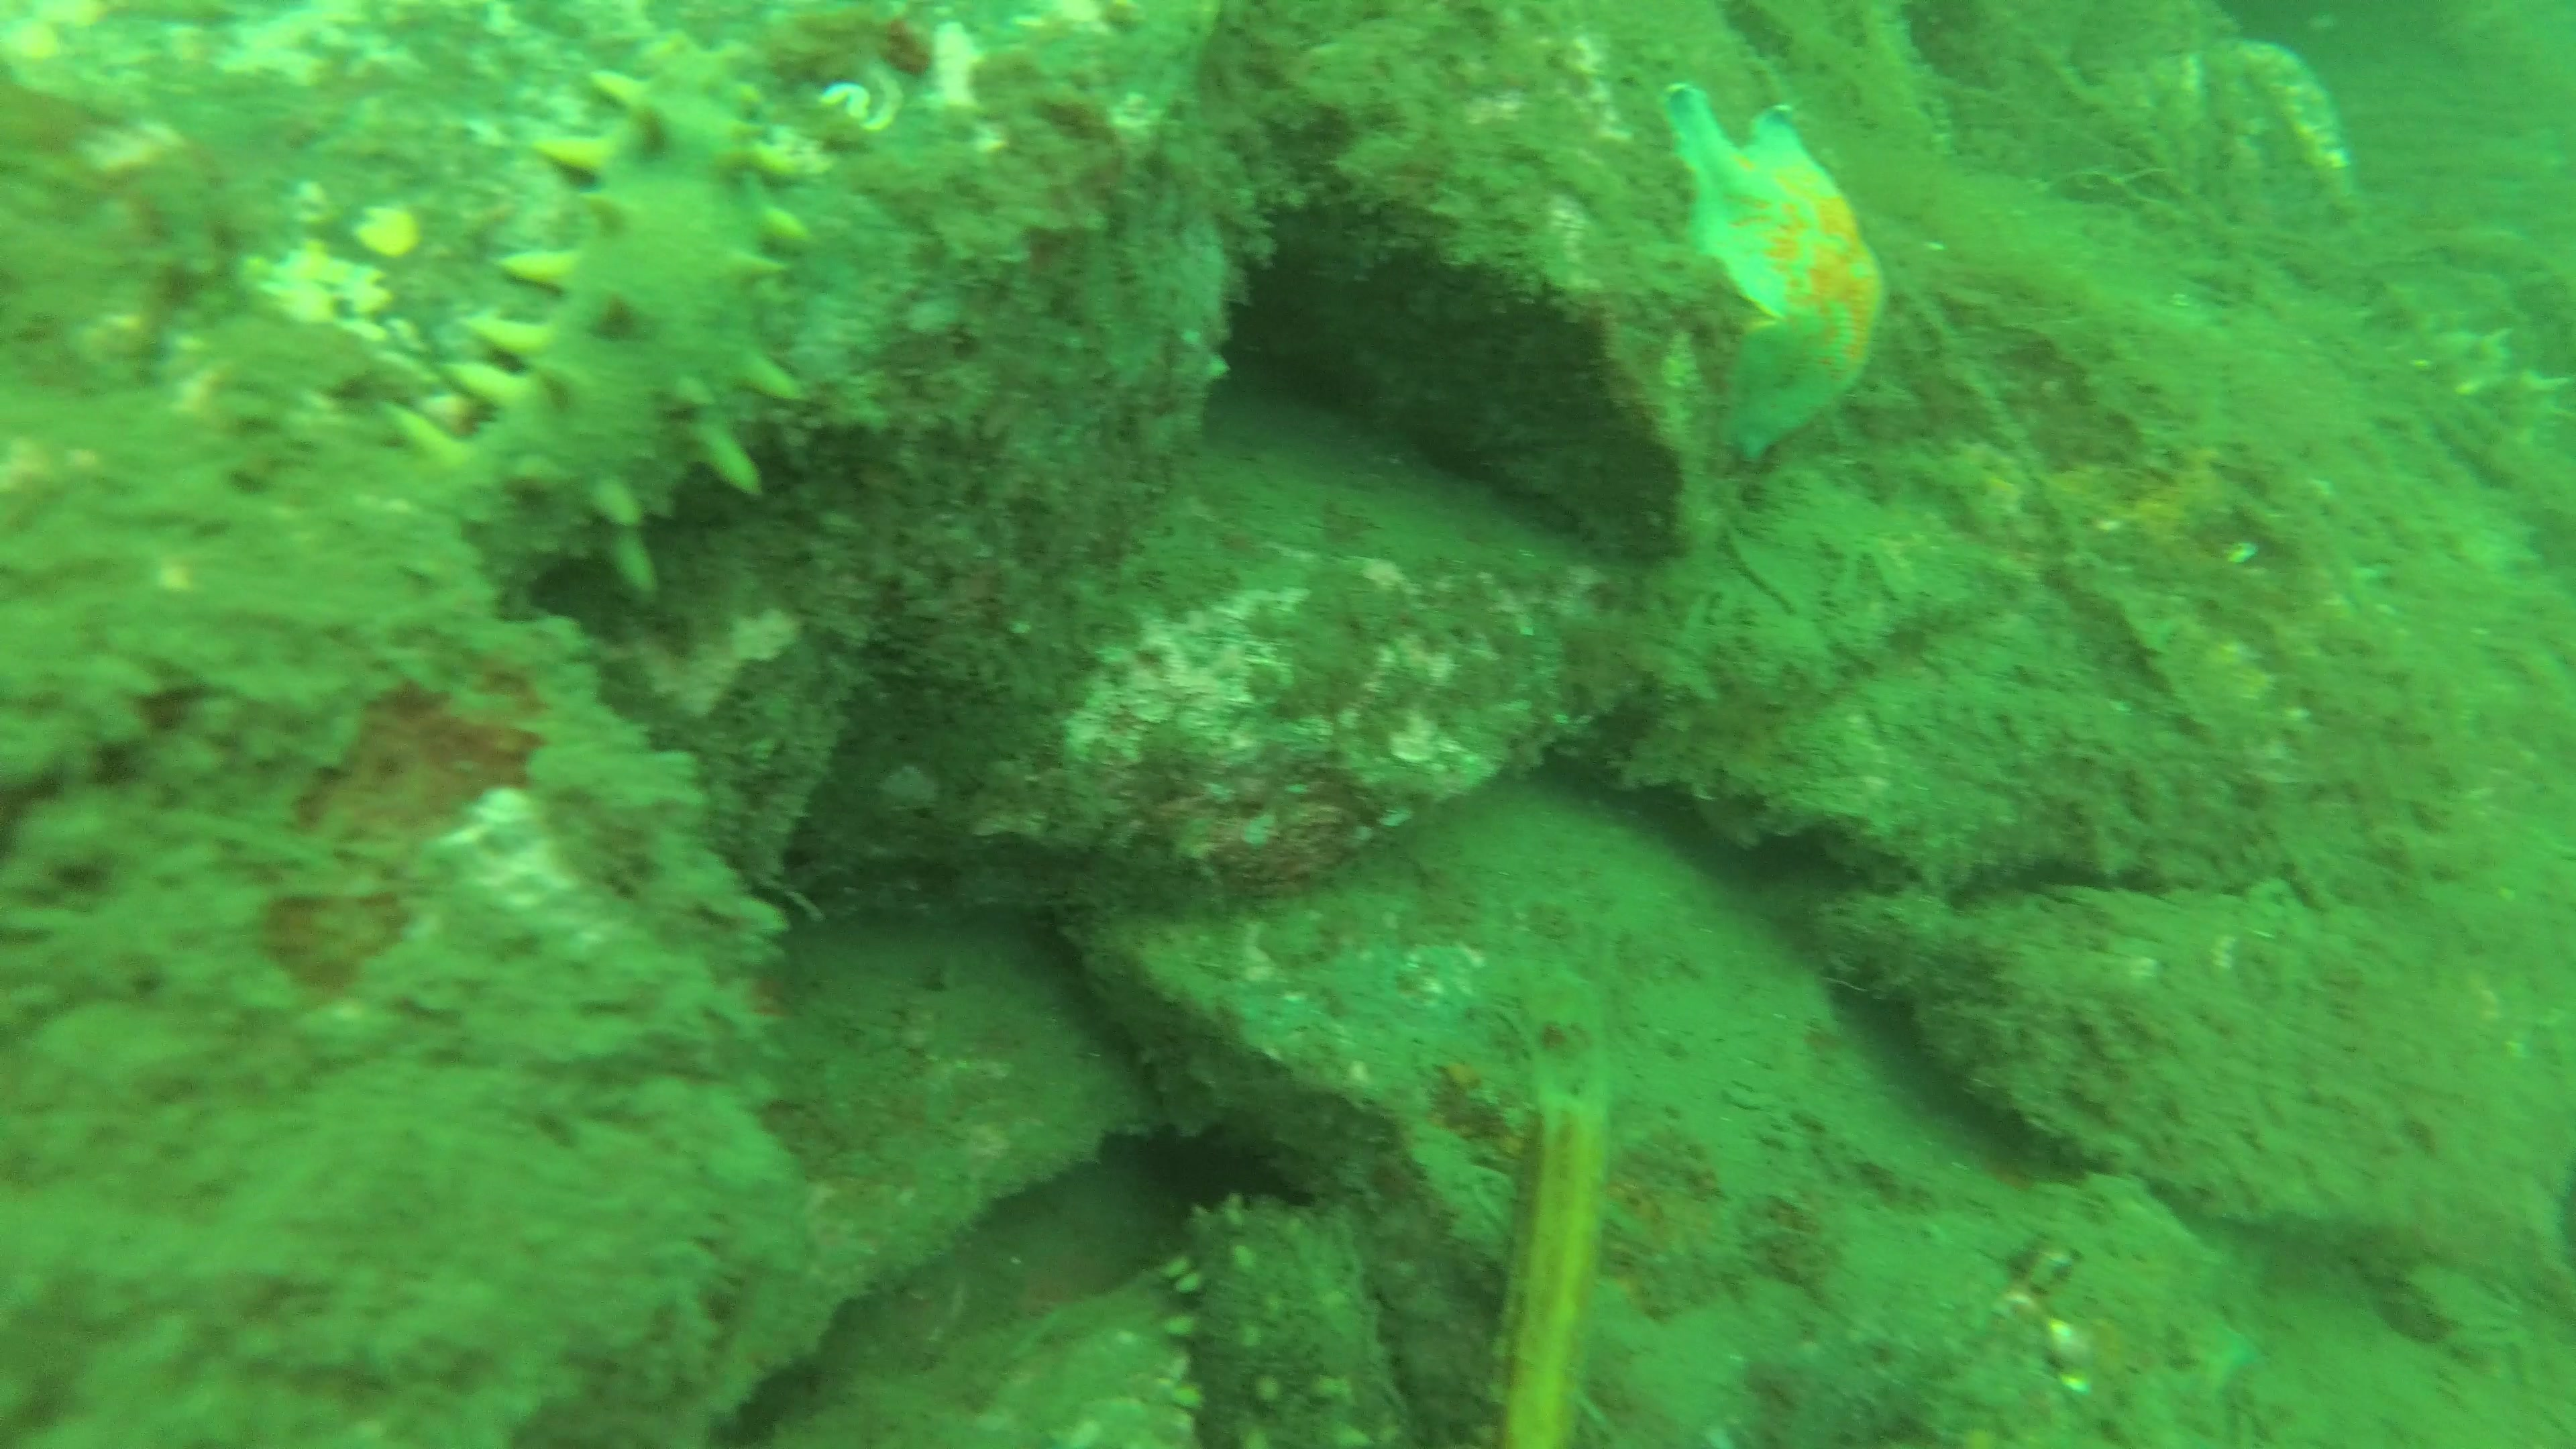holothurian: (395, 44, 807, 639), (1169, 1191, 1405, 1449)
starfish: (1663, 81, 1882, 467)
